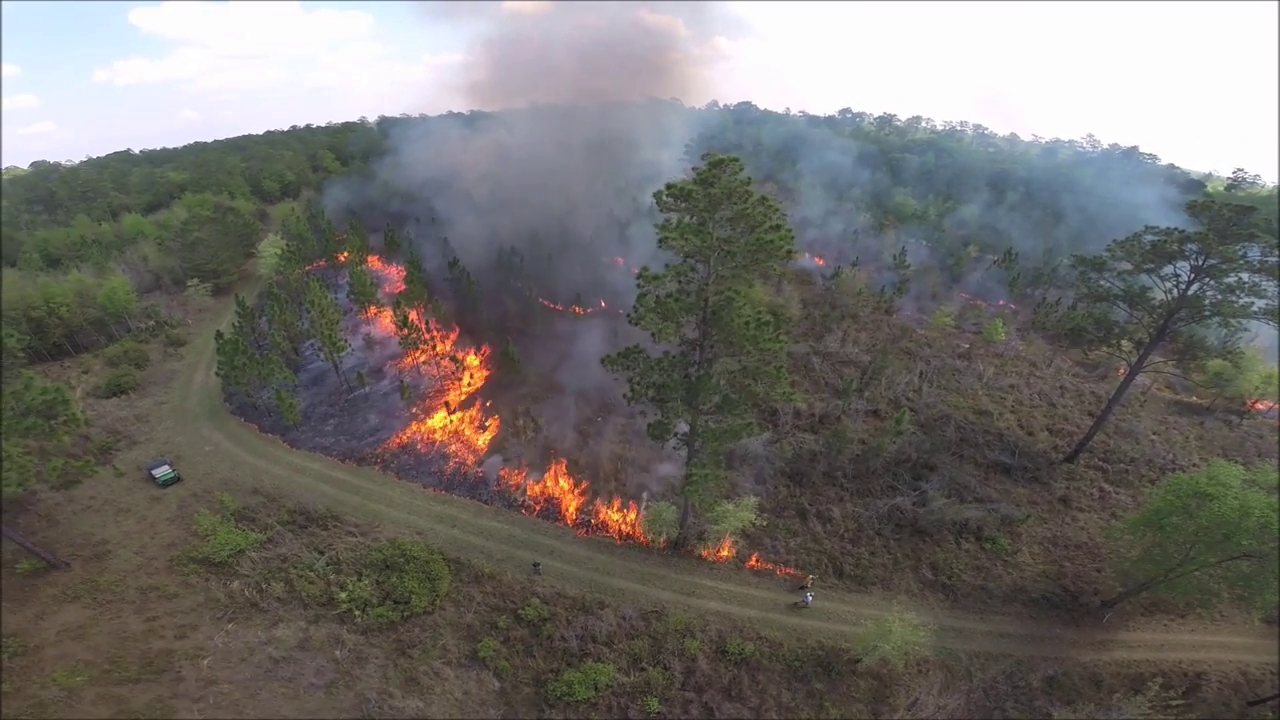forest_fire: (381, 310, 499, 470), (496, 457, 661, 545), (360, 254, 405, 338), (697, 536, 736, 562), (744, 553, 793, 572), (309, 251, 347, 268), (567, 301, 606, 312), (538, 298, 565, 309), (614, 257, 624, 265)
